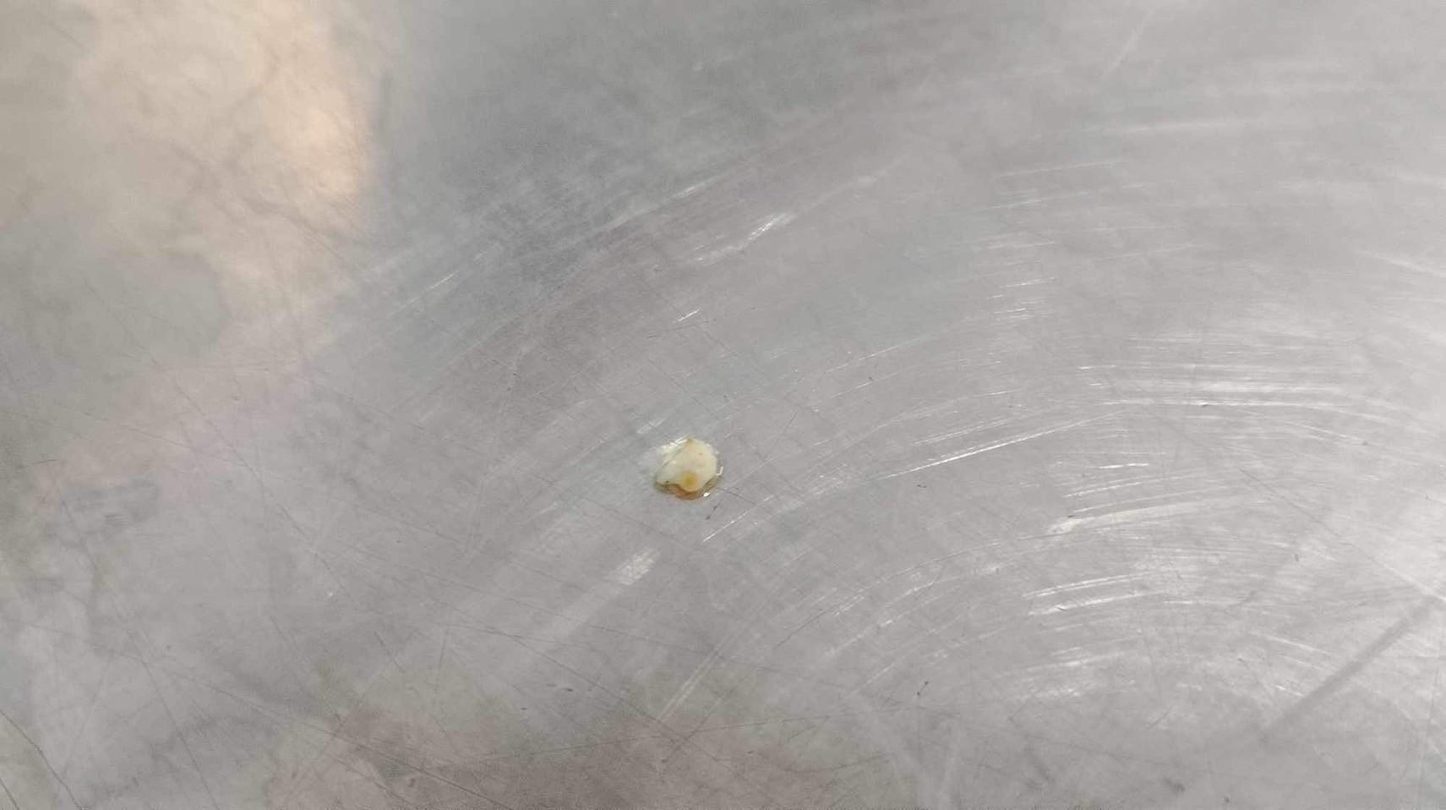General: (5, 3, 1439, 806)
Infectious: (652, 435, 720, 496)
